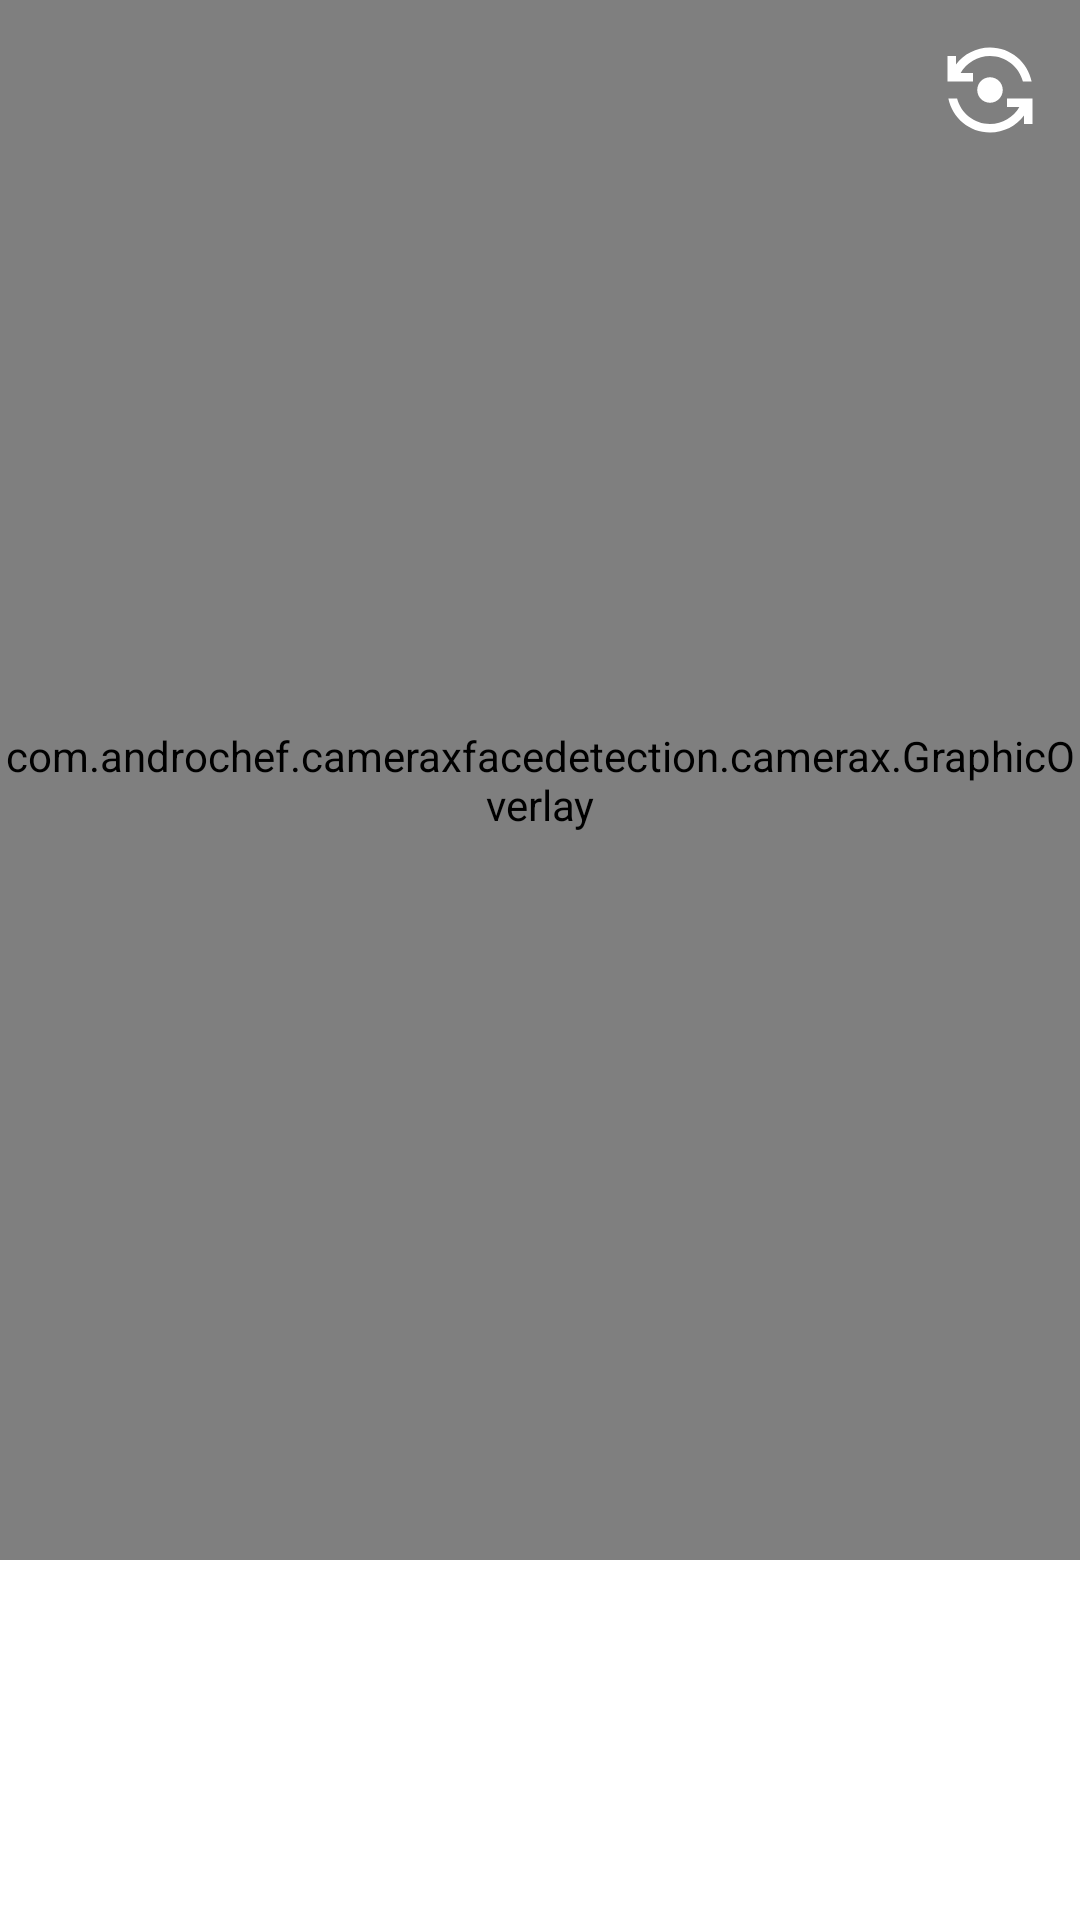

Named icons in this screenshot (1080 x 1920) and their centers, (x,y):
flip camera: (990,90)
